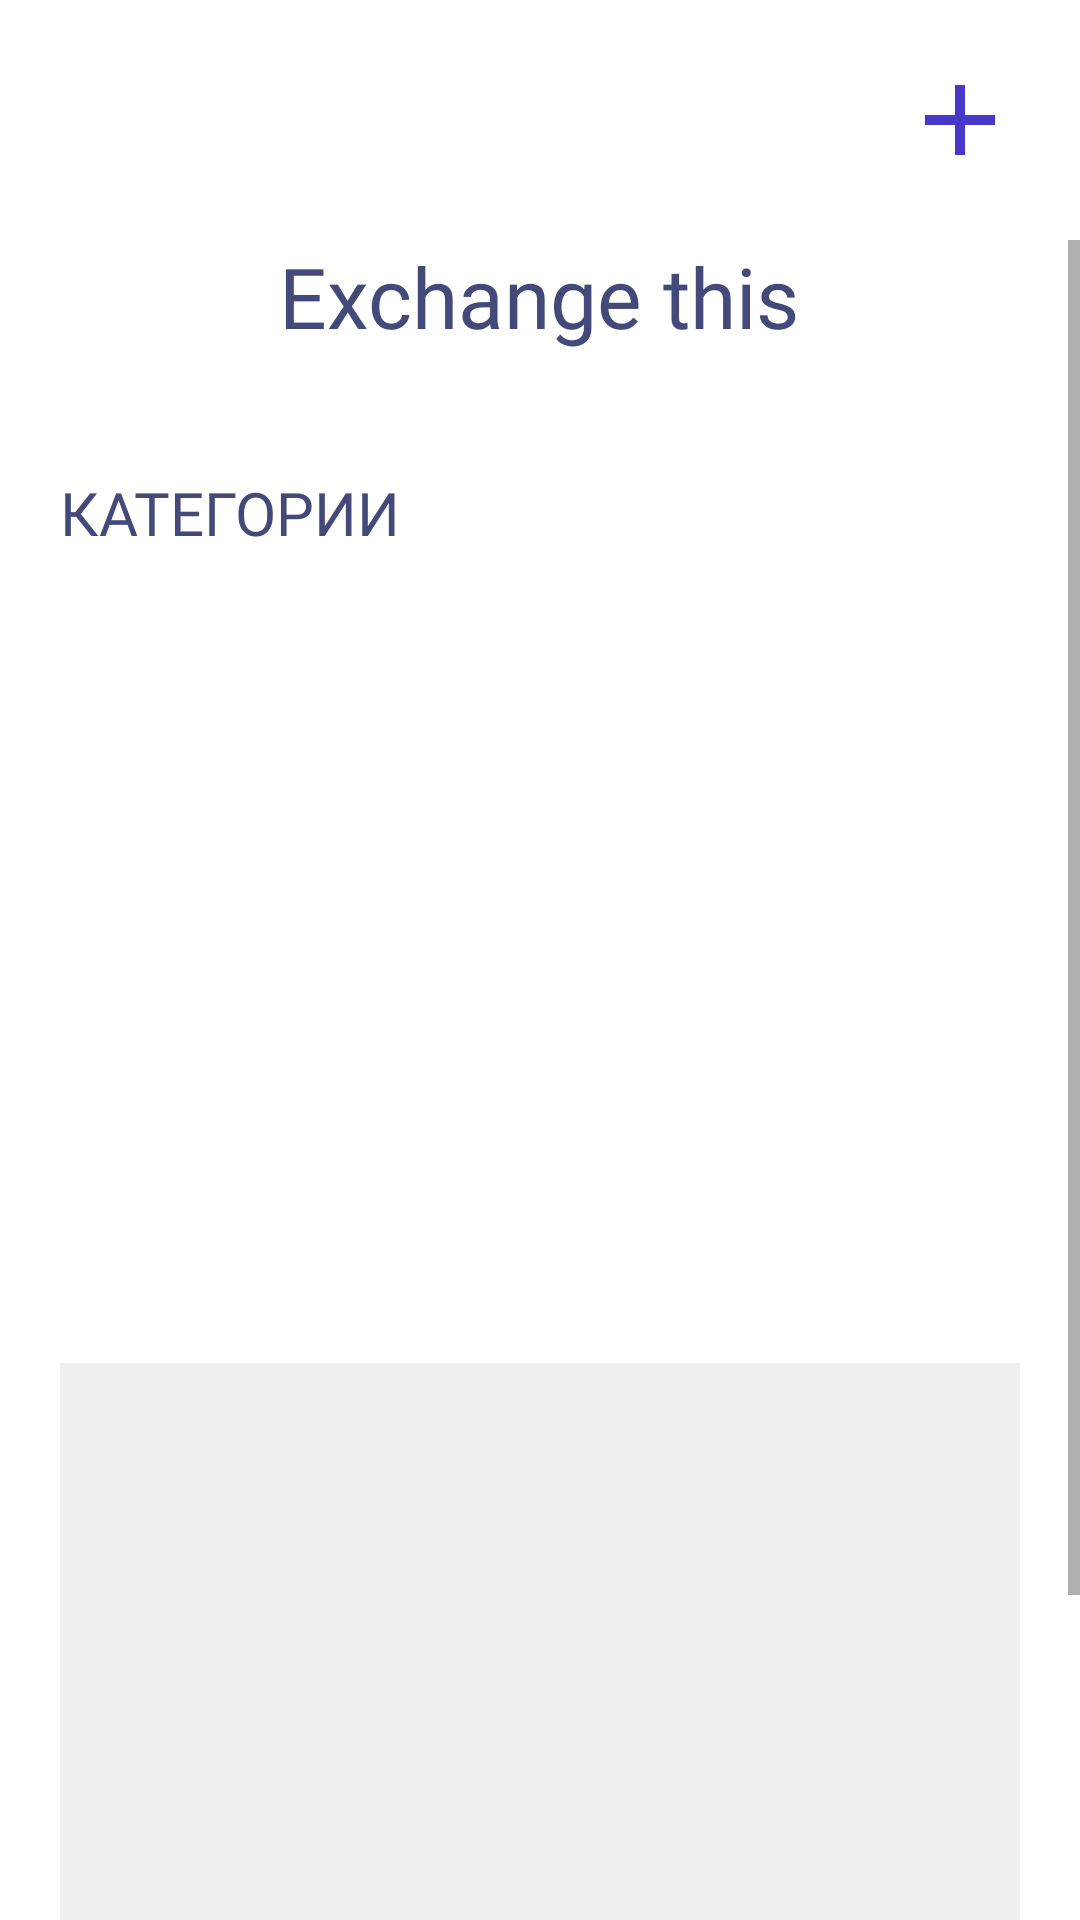

Locate icon controls on the screen. Image size 1080 x 1920, boxes as (x1, y1, x2, y2).
add: (925, 85, 995, 155)
